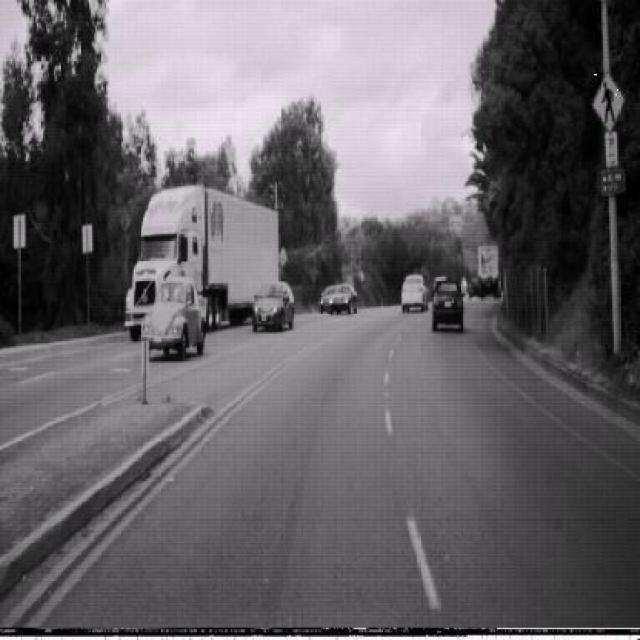pedestrianCrossing: (592, 70, 626, 134)
